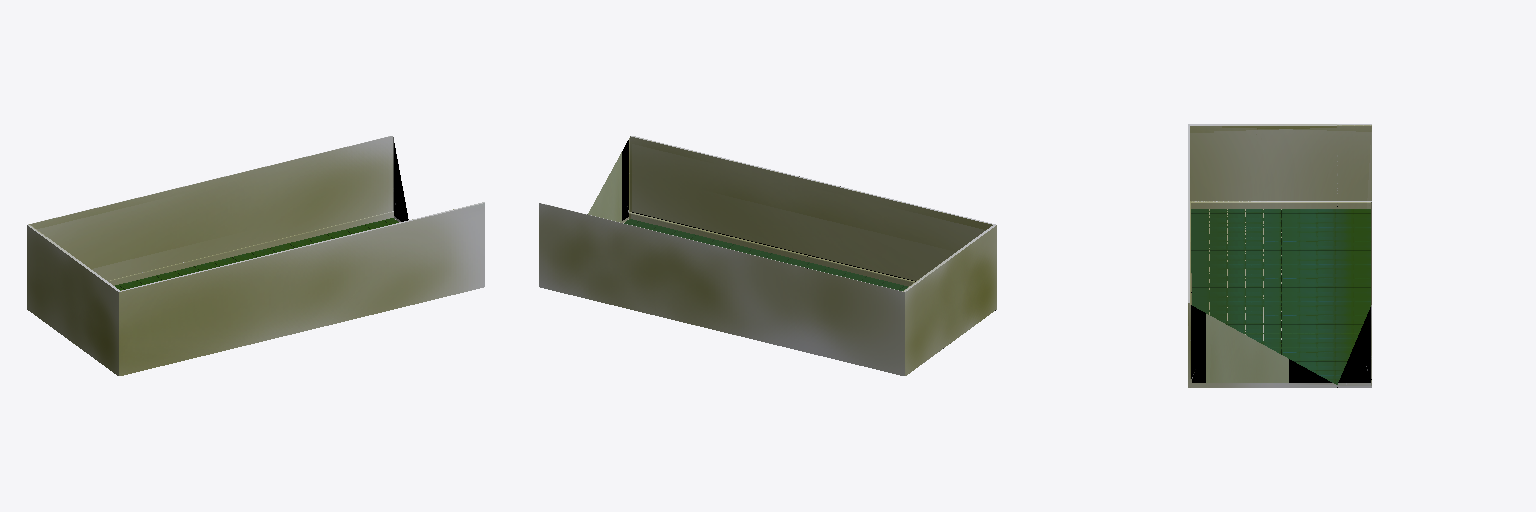
The picture shows the model from 3 angles: view 1: azimuth 30°, elevation 25°; view 2: azimuth 150°, elevation 25°; view 3: azimuth 270°, elevation 25°; orthographic projection.
Parts seen in each view (by area): view 1: Stanza.001; view 2: Stanza.001; view 3: Stanza.001.
Boxes of the visible parts, x1,y1,x2,y2 form: Stanza.001: [27, 136, 484, 375]; Stanza.001: [539, 136, 996, 375]; Stanza.001: [1188, 124, 1371, 387].
Bounding box in the file's own units: 11.37 × 2.5 × 4.95.
3 materials, 3 textured.